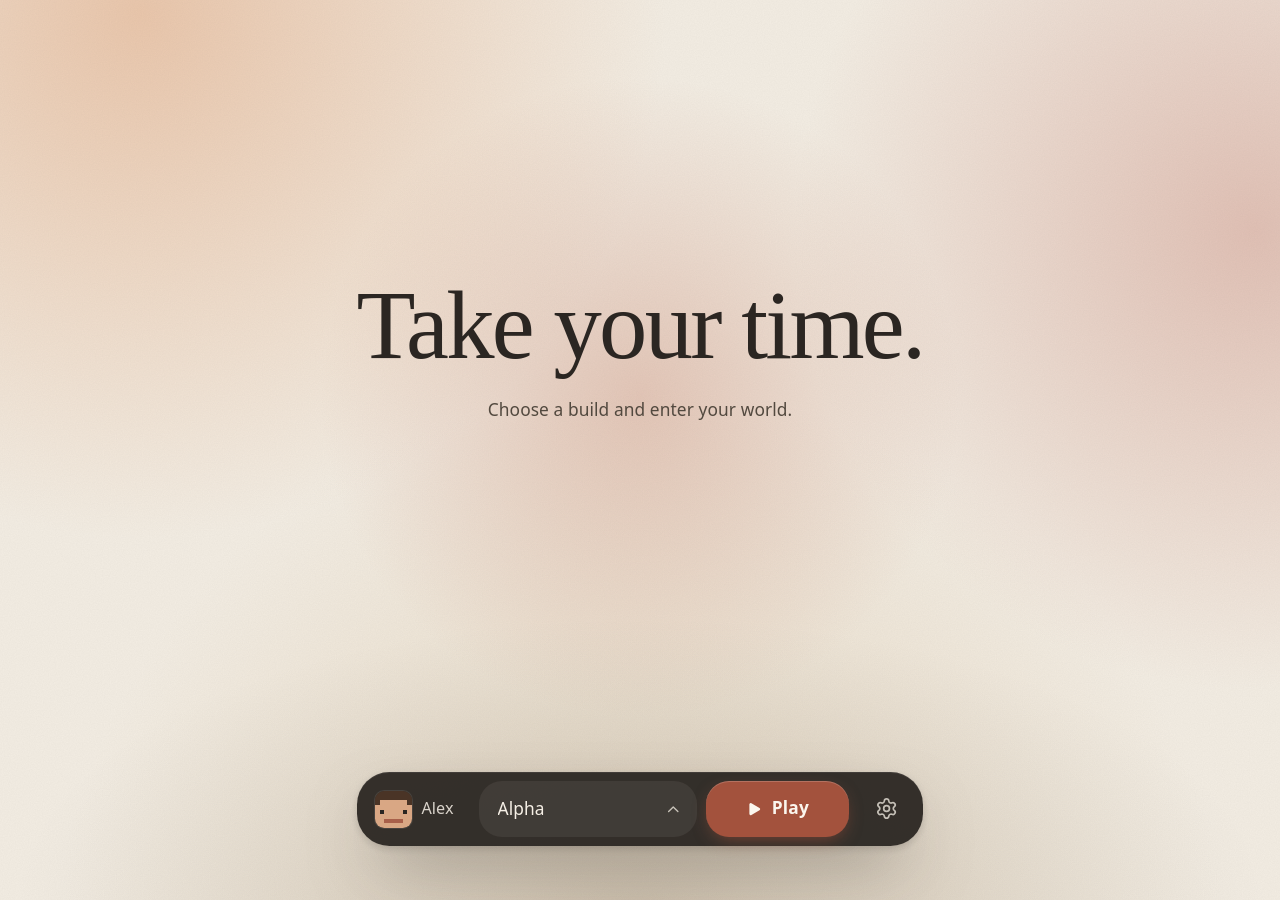
Test: Remove from Clade › is a pinned, separated action of the profile menu; profile rows carry no buttons of their own
Click the button with aria-label "Profile: ".
click(588, 809)  # box [479, 781, 697, 837]
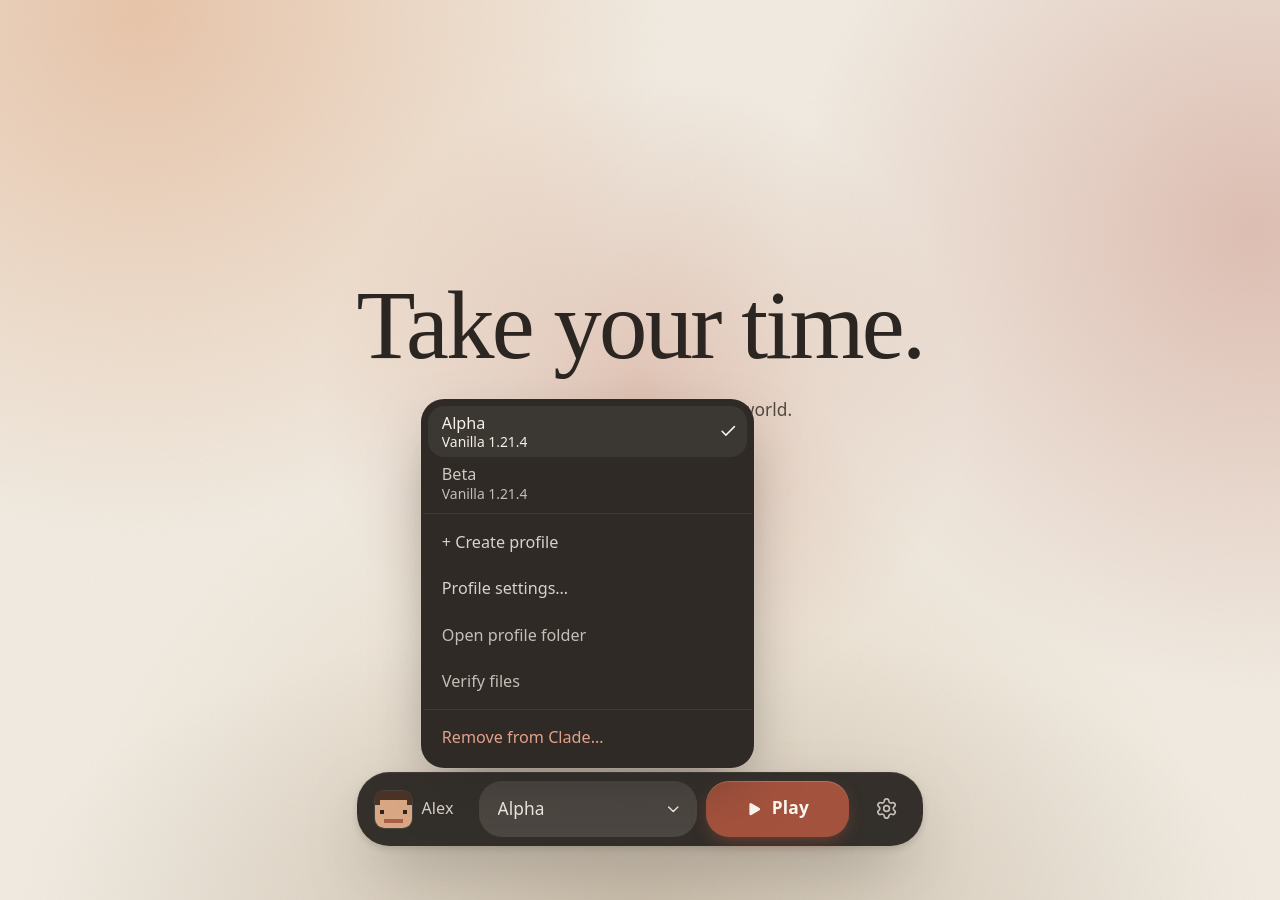
Expected: the menu items read "+ Create profile", "Profile settings…", "Open profile folder", "Verify files", "Remove from Clade…", in this order, [442, 531, 558, 553]; [442, 577, 568, 599]; [442, 624, 586, 646]; [442, 670, 520, 692]; [442, 726, 604, 748]
